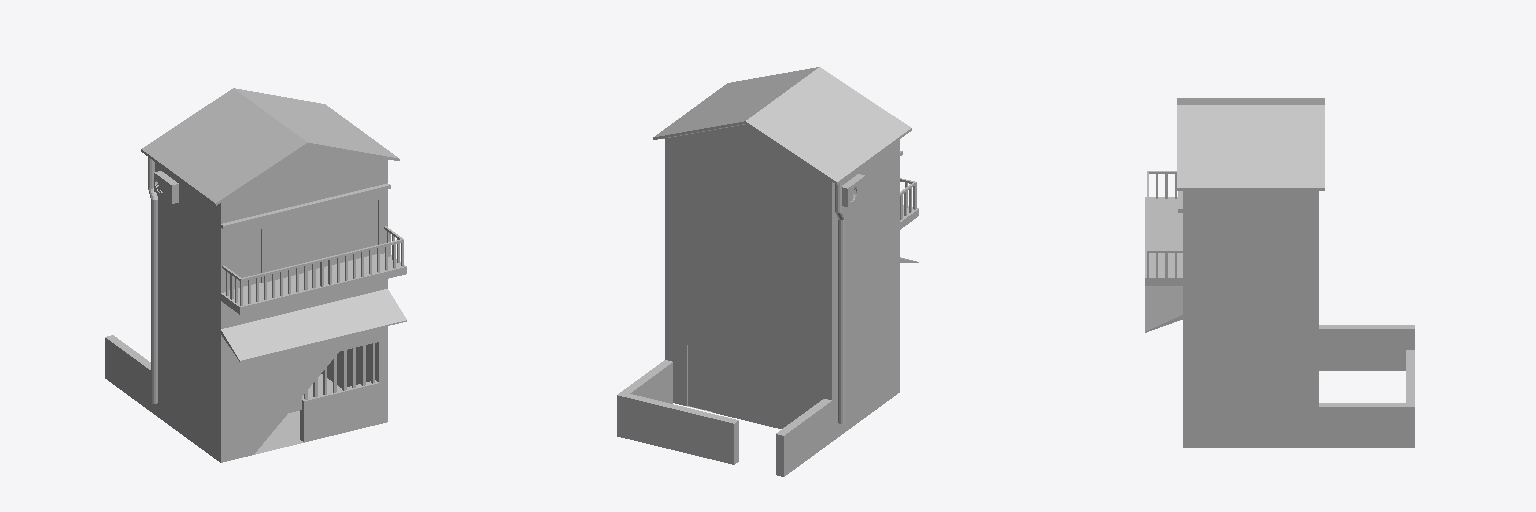
Rendered from building.obj.
3 renders of one model, left to right at view 1: azimuth 30°, elevation 25°; view 2: azimuth 150°, elevation 25°; view 3: azimuth 270°, elevation 25°, orthographic.
Visible parts, largest first — view 1: the_building; view 2: the_building; view 3: the_building.
Boxes of the visible parts, x1=… form: the_building: x1=105, y1=88, x2=406, y2=462; the_building: x1=617, y1=67, x2=918, y2=476; the_building: x1=1145, y1=98, x2=1414, y2=447.
Bounding box in the file's own units: 5.1 × 8 × 6.48.